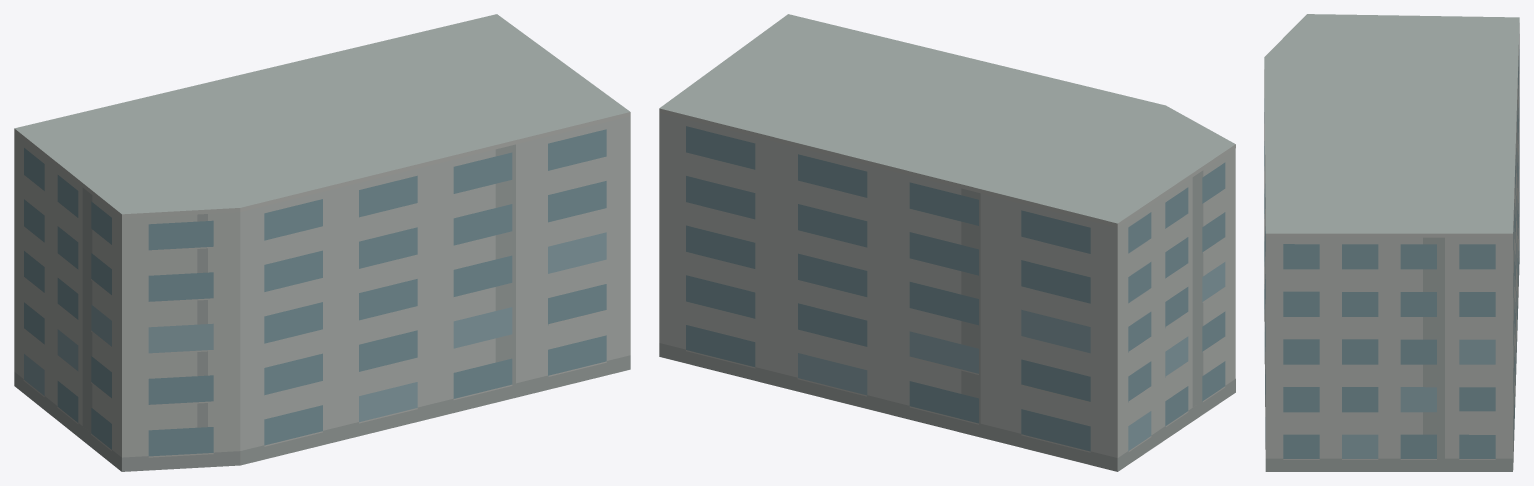
The model's file is survey-upis-32634999.glb.
3 views of the same model, side by side, from view 1: azimuth 30°, elevation 25°; view 2: azimuth 150°, elevation 25°; view 3: azimuth 270°, elevation 25° (orthographic). The views are drawn at different scales.
Parts seen in each view (by area): view 1: survey-upis-32634999.tmp; view 2: survey-upis-32634999.tmp; view 3: survey-upis-32634999.tmp.
Boxes of the visible parts, x1,y1,x2,y2 form: survey-upis-32634999.tmp: (14,14,630,471); survey-upis-32634999.tmp: (659,14,1235,471); survey-upis-32634999.tmp: (1264,14,1519,471).
Size of the model in its own units: 28.68 by 14.5 by 14.09.
